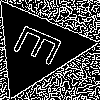E: (11, 22, 73, 72)
